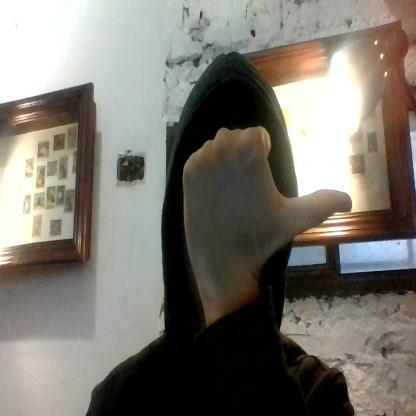left: (178, 121, 354, 262)
